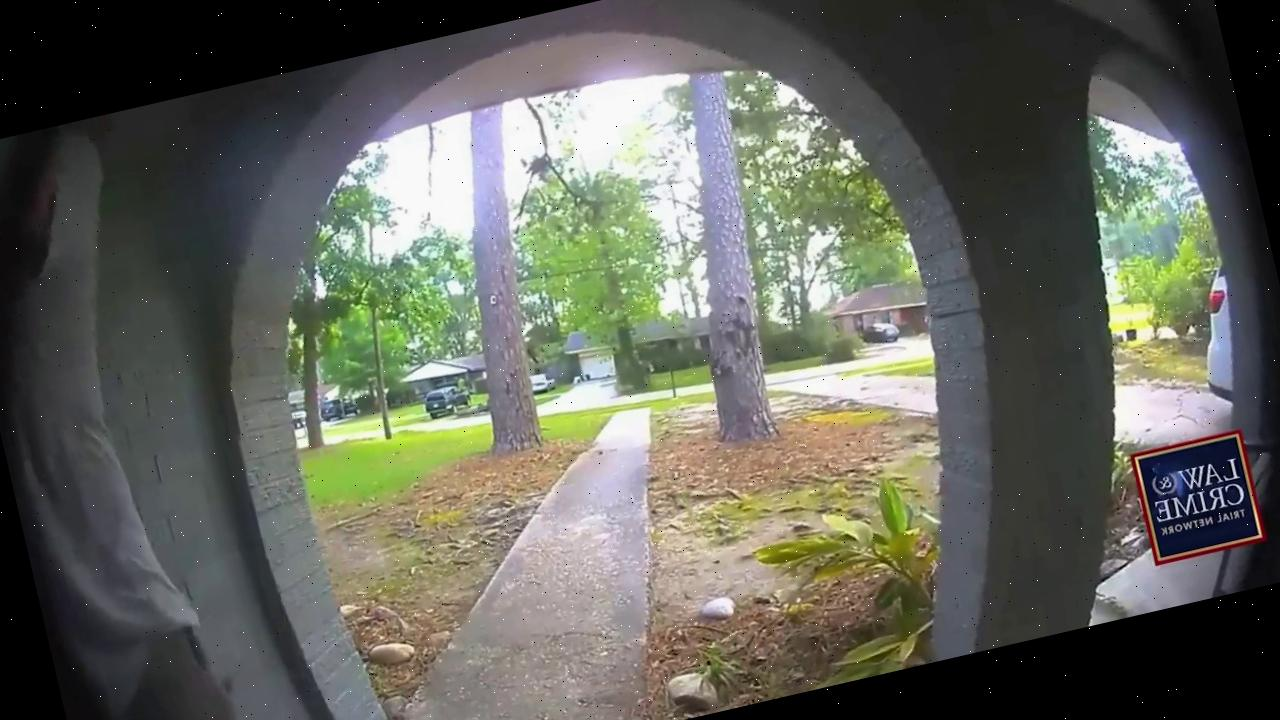suspicion: (0, 107, 296, 720)
